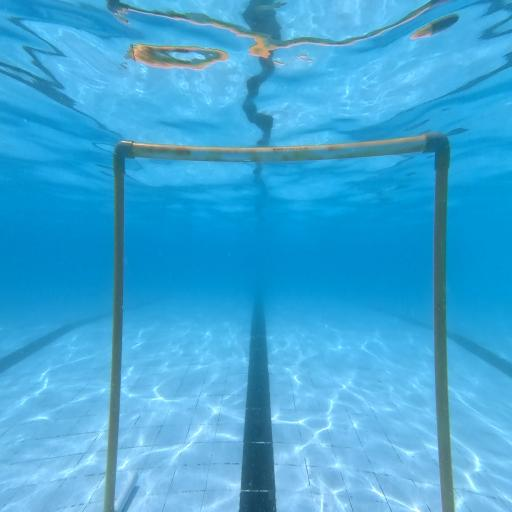gate: (104, 132, 454, 512)
